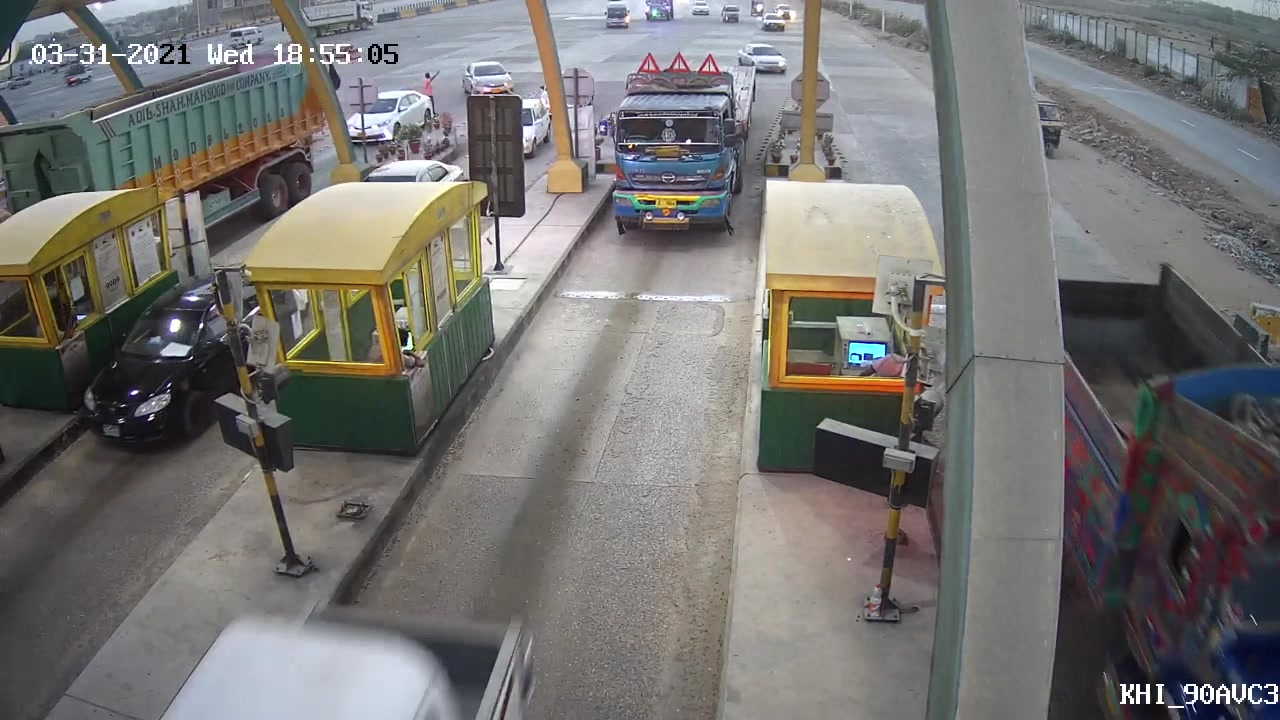F6: (591, 82, 756, 240)
